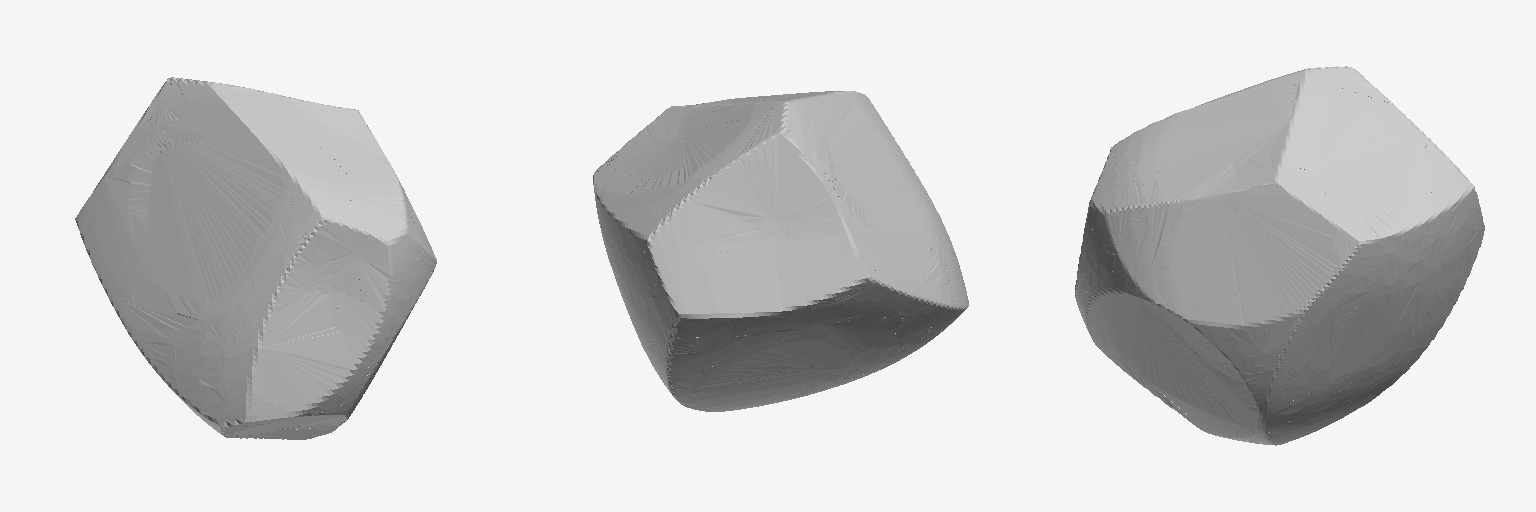
File: Rock_03.obj
3 views of the same model, side by side, from view 1: azimuth 30°, elevation 25°; view 2: azimuth 150°, elevation 25°; view 3: azimuth 270°, elevation 25° (orthographic).
Visible parts, largest first — view 1: Cube.004_Cube.011; view 2: Cube.004_Cube.011; view 3: Cube.004_Cube.011.
Part boxes in pixels (x1,y1,x2,y2): Cube.004_Cube.011: (75, 77, 436, 439); Cube.004_Cube.011: (593, 91, 968, 411); Cube.004_Cube.011: (1075, 66, 1484, 445).
Size of the model in its own units: 1.31 by 1.44 by 1.57.